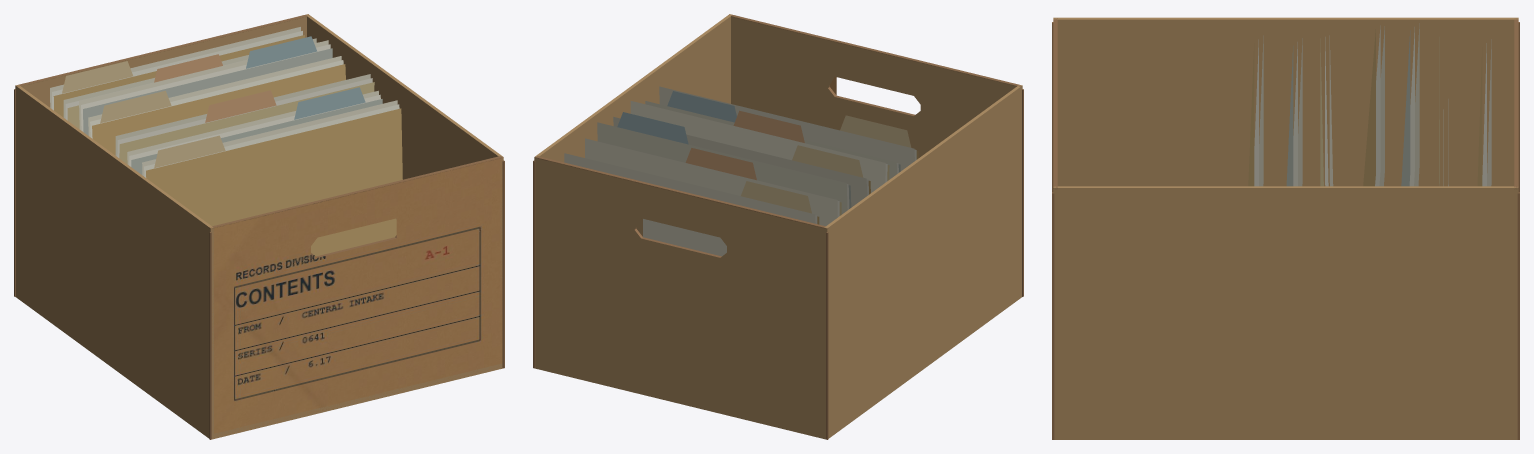
File: case_A.gltf
3 views of the same model, side by side, from view 1: azimuth 30°, elevation 25°; view 2: azimuth 150°, elevation 25°; view 3: azimuth 270°, elevation 25° (orthographic). The views are drawn at different scales.
Visible parts, largest first — view 1: TransferCaseA; view 2: TransferCaseA; view 3: TransferCaseA.
Boxes of the visible parts, x1,y1,x2,y2 form: TransferCaseA: (14,14,504,439); TransferCaseA: (533,14,1023,439); TransferCaseA: (1052,17,1519,439).
Bounding box in the file's own units: 0.35 × 0.2648 × 0.404.
11 materials, 1 textured.
